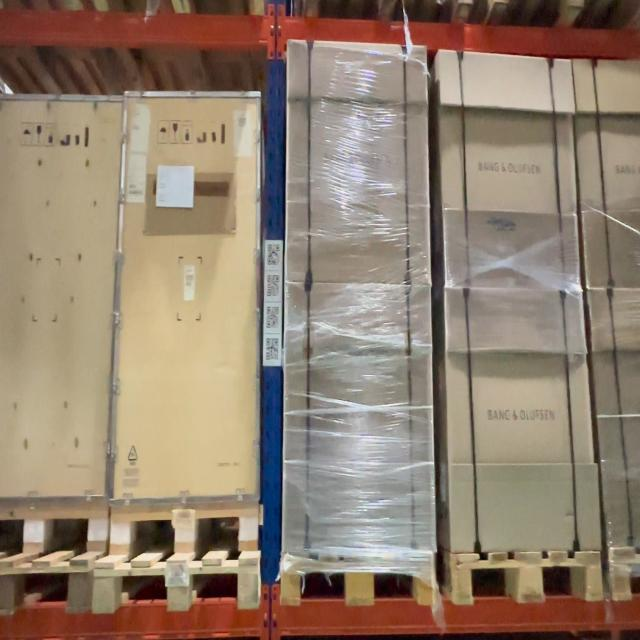box: (127, 98, 252, 493), (288, 287, 431, 552), (449, 296, 581, 546), (292, 45, 426, 282), (442, 60, 572, 278)
